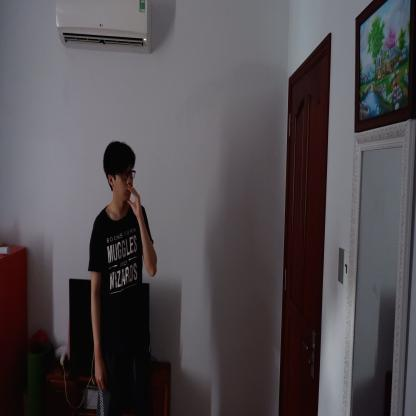cigarette: (130, 182, 139, 190)
person: (88, 139, 159, 415)
